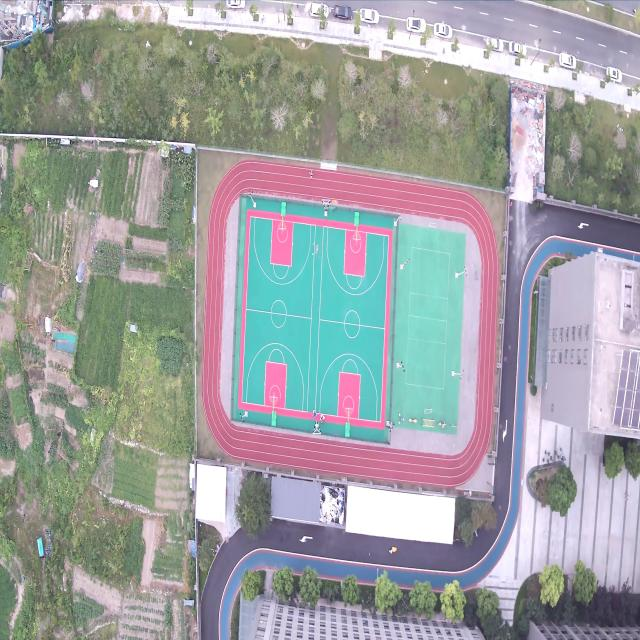drone: (312, 242, 322, 258)
